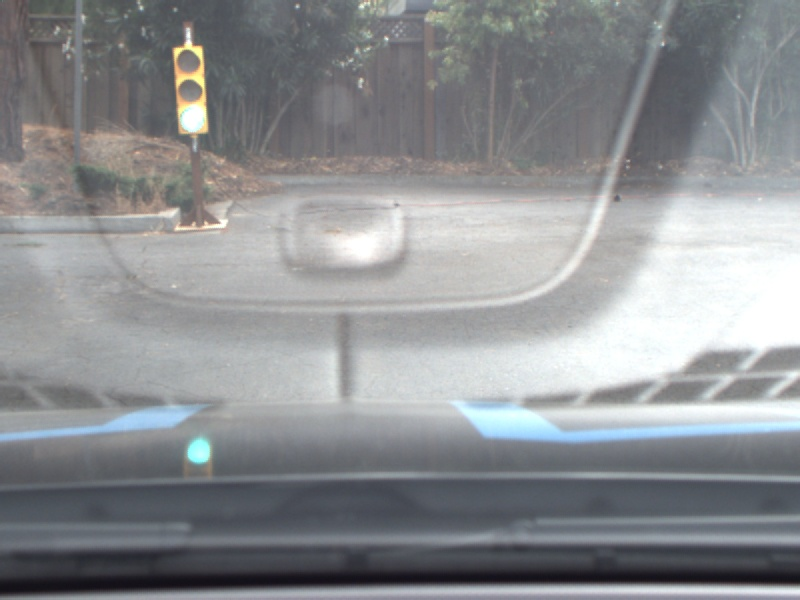green: (166, 44, 212, 139)
